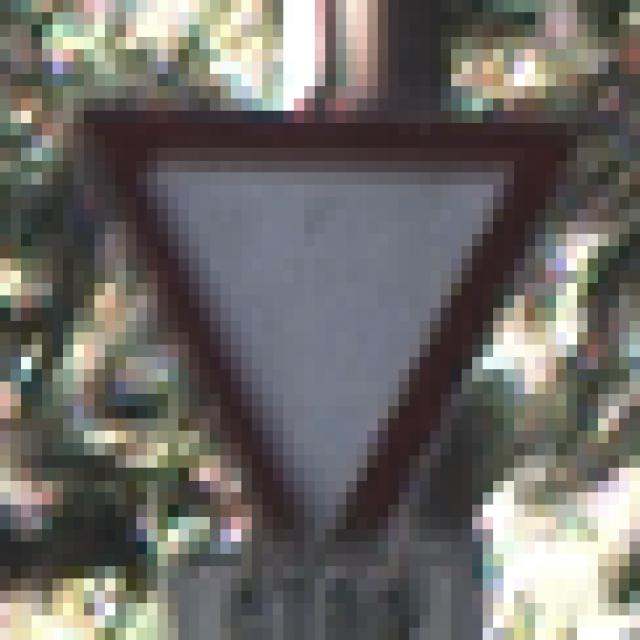Give Way: (64, 75, 588, 567)
